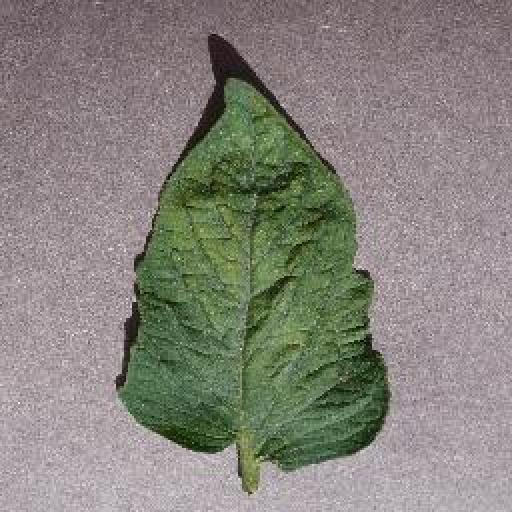disease_tomato: (118, 75, 390, 472)
